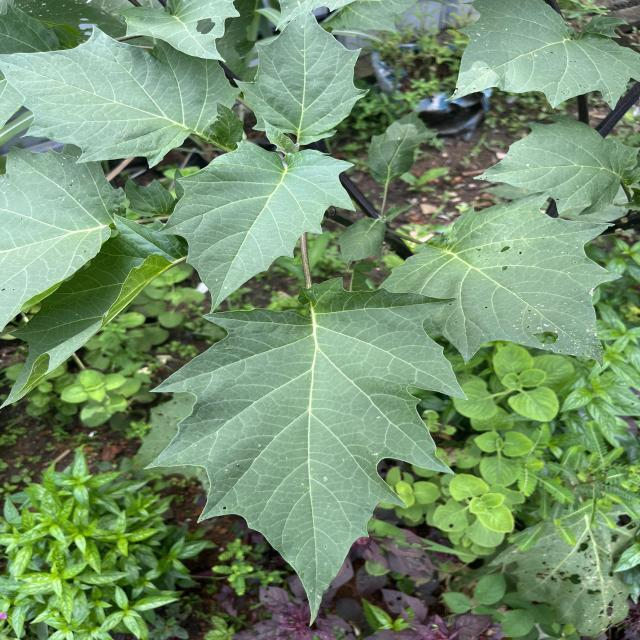Datura metal linn: (138, 272, 474, 632), (376, 186, 626, 374), (151, 136, 360, 314), (440, 0, 640, 115), (230, 0, 374, 148), (471, 112, 640, 218)
